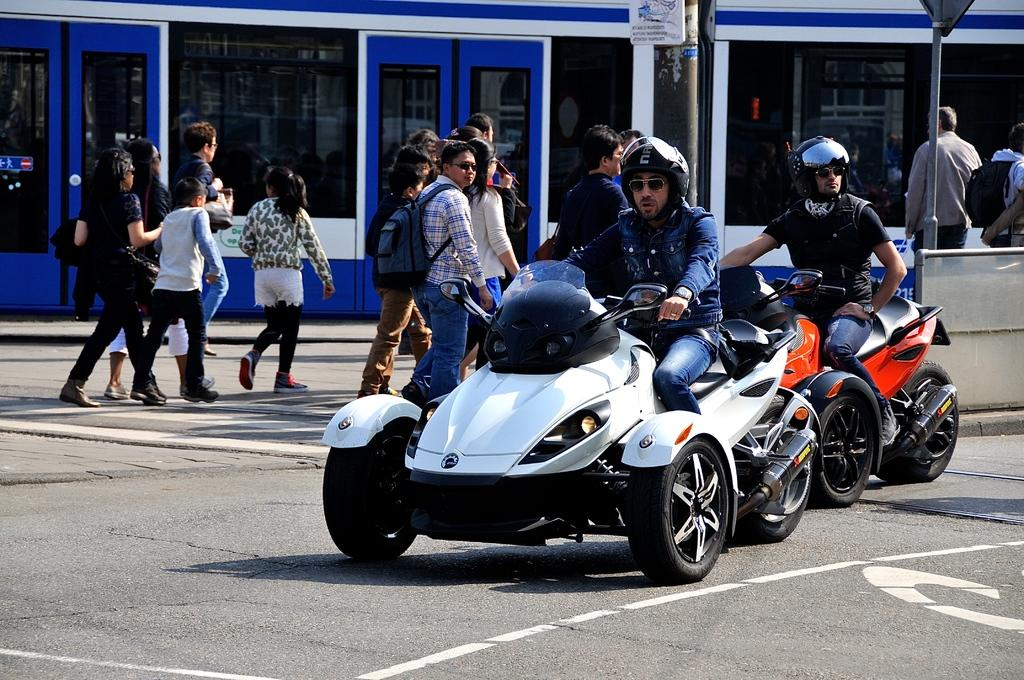helmet: (620, 136, 690, 218), (787, 135, 851, 198)
nohelmet: (580, 123, 627, 182), (94, 146, 136, 199), (461, 137, 499, 188), (440, 141, 478, 191), (387, 162, 427, 206), (124, 138, 163, 182), (182, 120, 219, 166), (170, 175, 209, 217), (264, 164, 299, 206), (925, 105, 958, 144)
